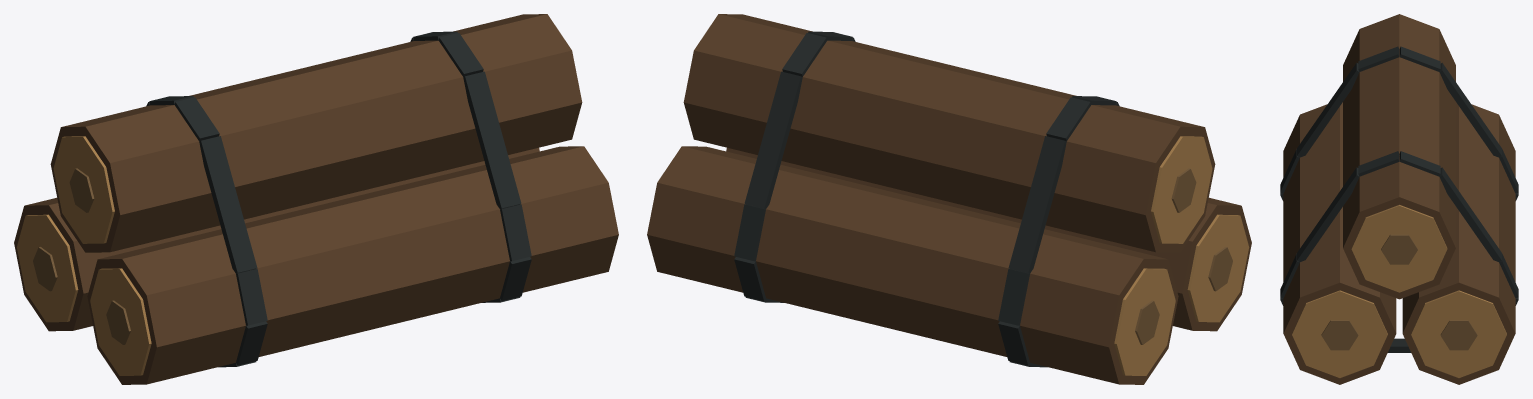
File: Wood.gltf
3 renders of one model, left to right at view 1: azimuth 30°, elevation 25°; view 2: azimuth 150°, elevation 25°; view 3: azimuth 270°, elevation 25°, orthographic. The views are drawn at different scales.
Parts seen in each view (by area): view 1: Wood; view 2: Wood; view 3: Wood.
Part boxes in pixels (bbox=[...]): Wood: bbox=[14, 14, 618, 384]; Wood: bbox=[647, 14, 1251, 384]; Wood: bbox=[1280, 14, 1518, 384].
Bounding box in the file's own units: 0.571 × 0.2767 × 0.3083.
